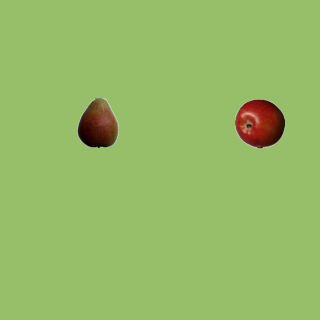Apple Braeburn: (234, 98, 284, 148)
Pear Forelle: (72, 97, 122, 147)
